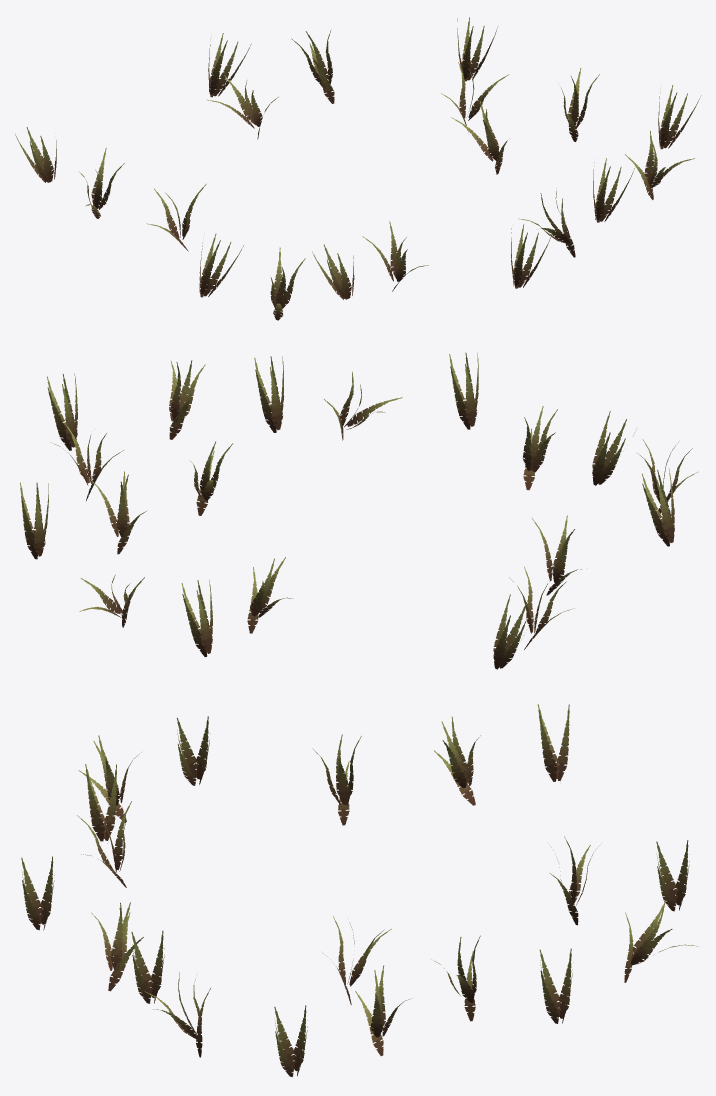
The model's file is SM_ObeliskGrass.fbx.
3 views of the same model, one above another, from view 1: azimuth 30°, elevation 25°; view 2: azimuth 150°, elevation 25°; view 3: azimuth 270°, elevation 25° (orthographic). The views are drawn at different scales.
Visible parts, largest first — view 1: SM_ObeliskGrass; view 2: SM_ObeliskGrass; view 3: SM_ObeliskGrass.
Boxes of the visible parts, x1,y1,x2,y2 form: SM_ObeliskGrass: (15,17,701,320); SM_ObeliskGrass: (20,352,698,669); SM_ObeliskGrass: (21,704,698,1077).
Bounding box in the file's own units: 7064 × 997 × 6355.
